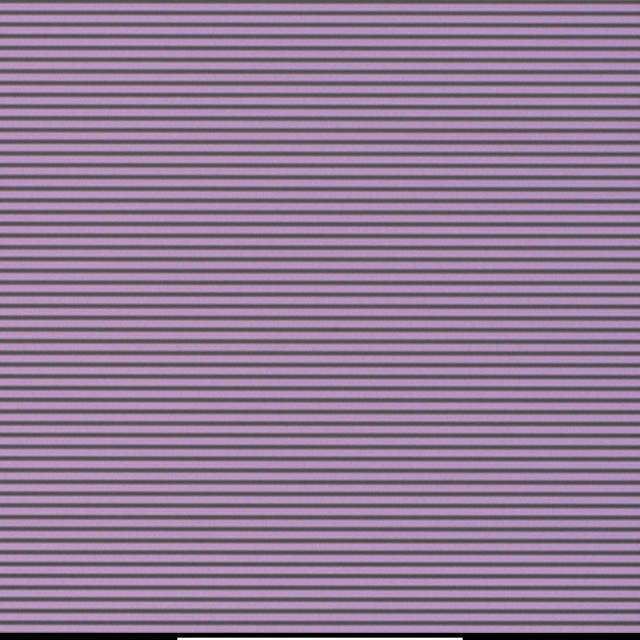03_intrusion: (333, 321, 342, 336)
